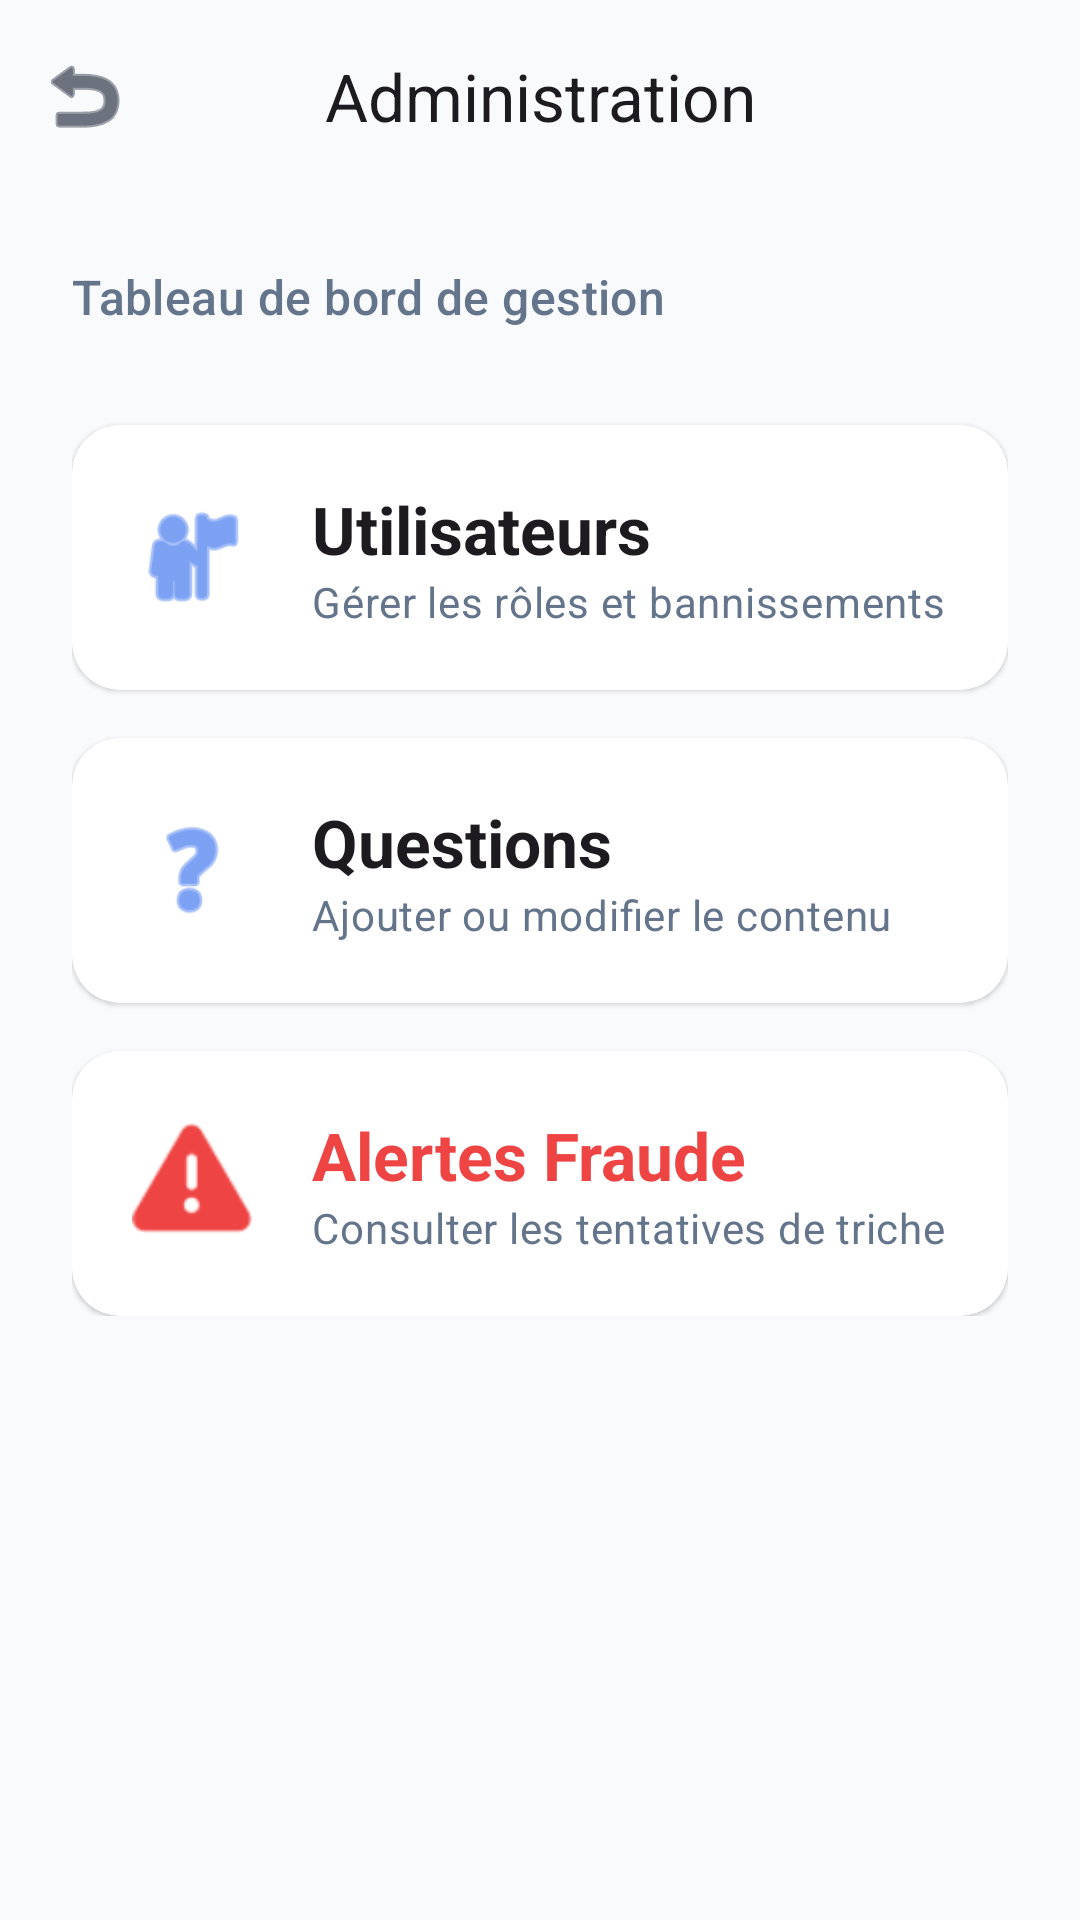

Icon bounding boxes for this 1080×1920 phone screenshot, format region(x1, y1, x2, y2):
help: region(166, 827, 218, 913)
